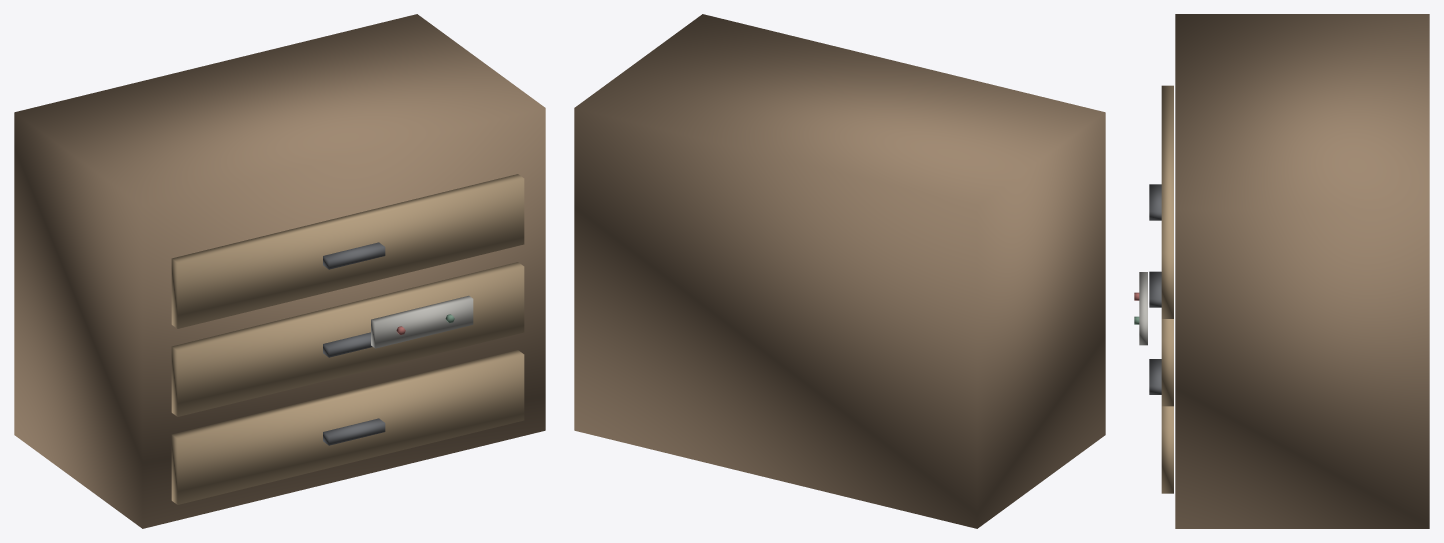
File: dresser__deep.glb
The picture shows the model from 3 angles, left to right: view 1: azimuth 30°, elevation 25°; view 2: azimuth 150°, elevation 25°; view 3: azimuth 270°, elevation 25°; orthographic projection.
Visible parts, largest first — view 1: world; view 2: world; view 3: world.
Part boxes in pixels (x1,y1,x2,y2): world: (14,14,545,528); world: (574,14,1105,528); world: (1134,14,1429,528).
Size of the model in its own units: 1.15 by 0.88 by 0.7363.
